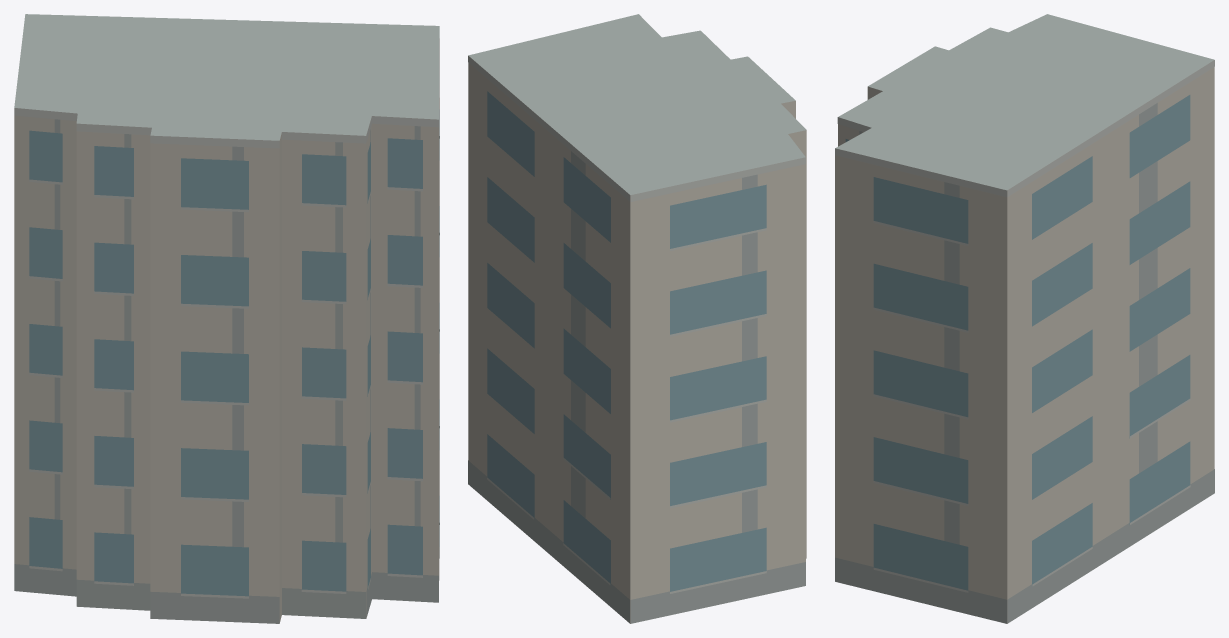
File: survey-upis-32911167.glb
3 renders of one model, left to right at view 1: azimuth 30°, elevation 25°; view 2: azimuth 150°, elevation 25°; view 3: azimuth 270°, elevation 25°, orthographic. The views are drawn at different scales.
Parts seen in each view (by area): view 1: survey-upis-32911167.tmp; view 2: survey-upis-32911167.tmp; view 3: survey-upis-32911167.tmp.
Part boxes in pixels (x1,y1,x2,y2): survey-upis-32911167.tmp: (14, 14, 439, 623); survey-upis-32911167.tmp: (468, 14, 806, 623); survey-upis-32911167.tmp: (835, 14, 1214, 623).
Bounding box in the file's own units: 13.32 × 15.25 × 12.12.
